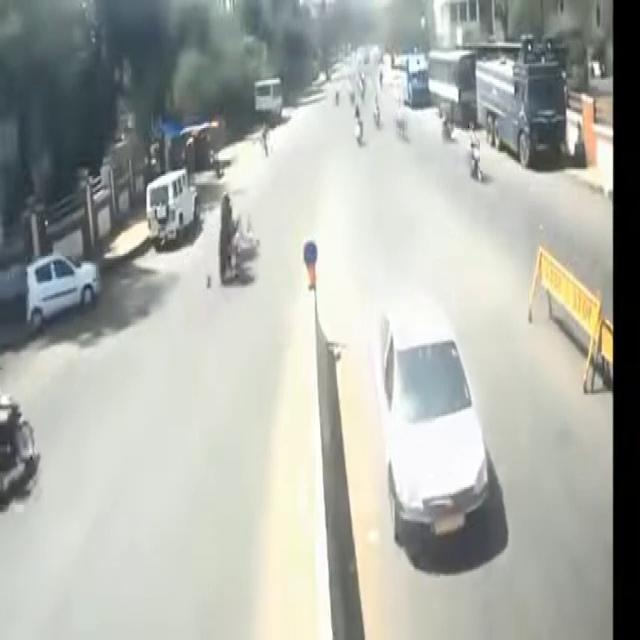accident: (199, 168, 271, 307)
